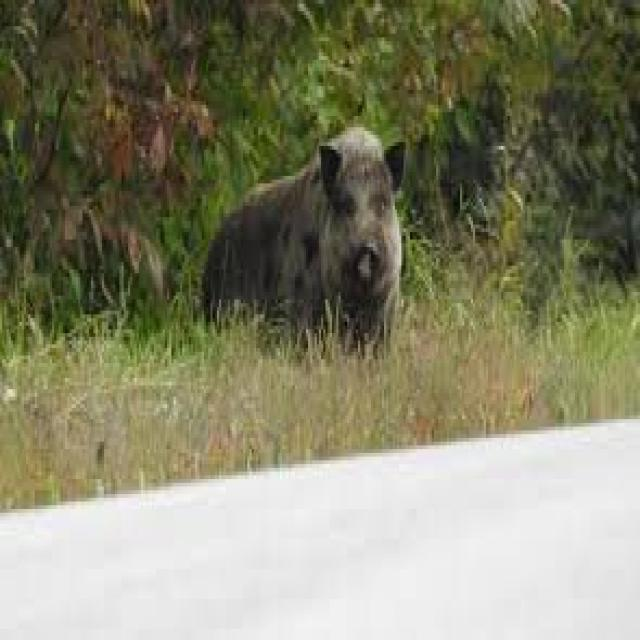Boar: (194, 118, 410, 350)
